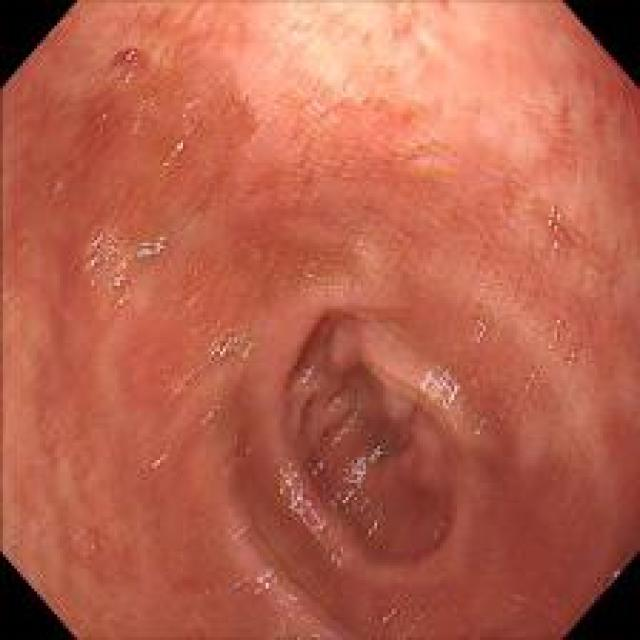bubbles: (74, 220, 175, 308), (521, 196, 575, 261), (274, 261, 360, 298), (539, 312, 588, 375), (99, 41, 159, 90), (461, 299, 501, 350), (516, 360, 551, 406), (204, 321, 240, 364), (462, 404, 498, 445), (244, 238, 276, 280), (44, 170, 64, 199), (504, 590, 528, 611), (85, 534, 105, 558), (2, 295, 21, 315), (11, 531, 25, 550), (414, 610, 425, 625)
color misalignment: (84, 225, 172, 306), (331, 451, 385, 541), (282, 571, 356, 636), (358, 350, 428, 415), (272, 461, 329, 540), (411, 362, 465, 412), (309, 414, 359, 466), (236, 502, 272, 558), (230, 561, 281, 596), (301, 261, 352, 294), (155, 134, 195, 176), (430, 408, 461, 452), (142, 446, 178, 474), (545, 201, 568, 238), (325, 544, 352, 574), (468, 409, 492, 442), (375, 600, 404, 626), (290, 354, 315, 384), (198, 399, 221, 430), (431, 514, 450, 545), (548, 238, 564, 262), (120, 70, 134, 84), (124, 46, 135, 58)
saturation: (264, 5, 419, 98)
